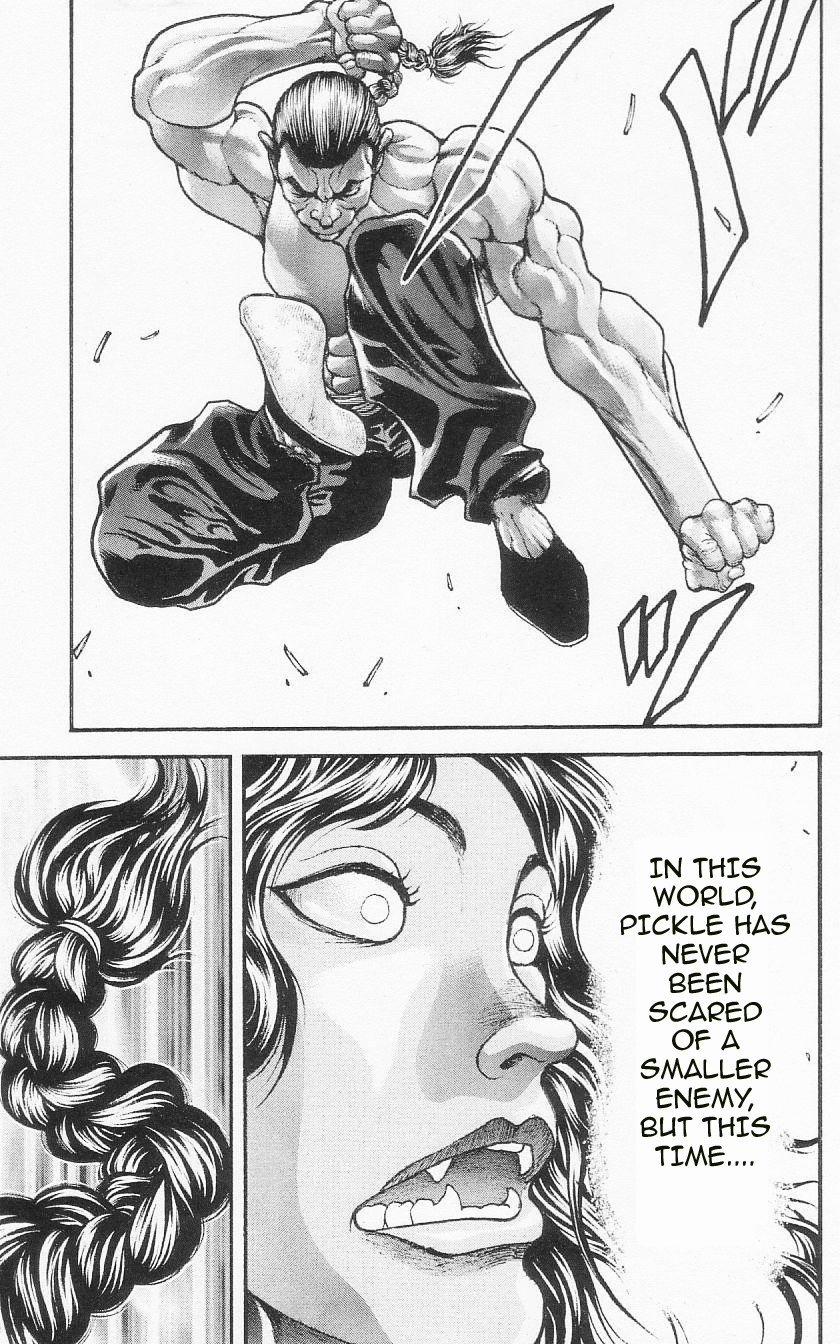Baloon: (616, 833, 782, 1190)
Vignetta: (70, 1, 827, 733), (241, 751, 820, 1344), (1, 753, 229, 1343)
